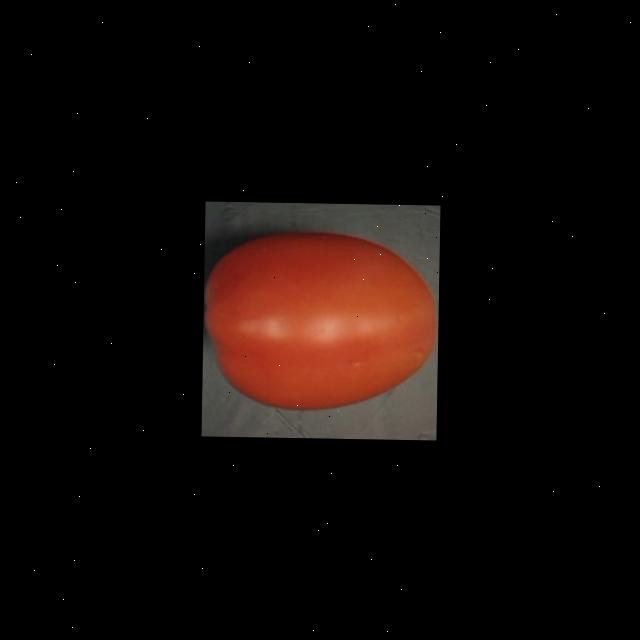tomato: (201, 227, 439, 420)
